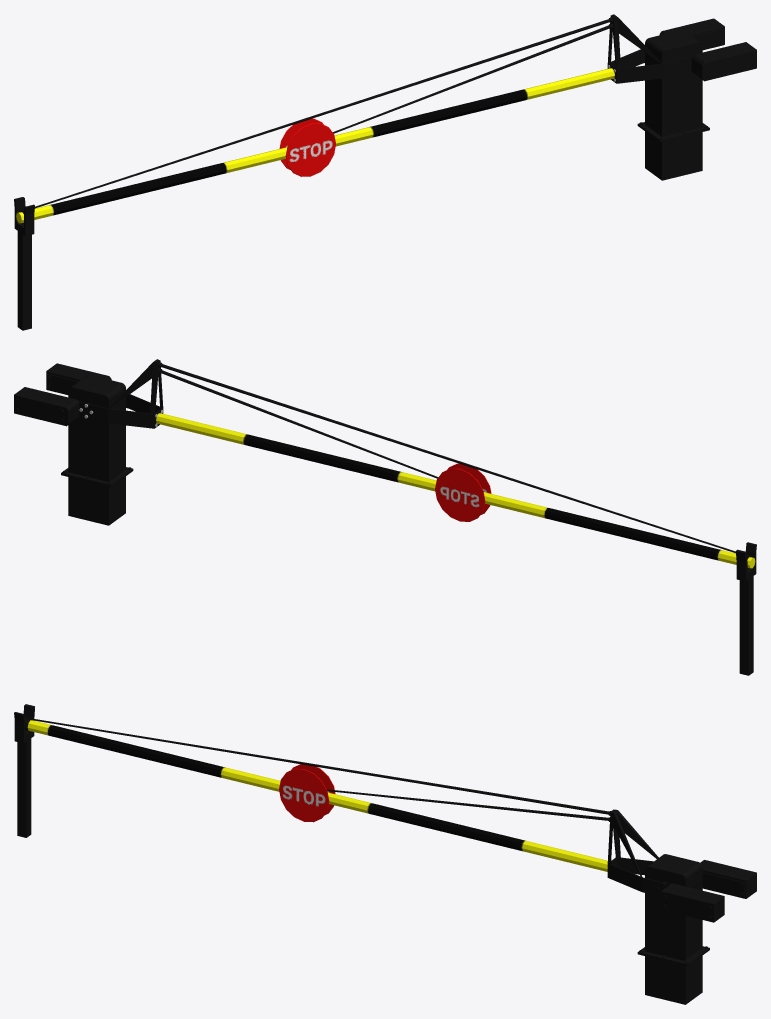
Rendered from RailwayCrossing-transformed.glb.
The picture shows the model from 3 angles, top to bottom: view 1: azimuth 30°, elevation 25°; view 2: azimuth 150°, elevation 25°; view 3: azimuth 330°, elevation 25°; orthographic projection.
Visible parts, largest first — view 1: main1, main_pole, Side_Support1, STOP_1, Cube, Ring_12, Side1, Ring_13, Side; view 2: main1, main_pole, Side_Support1, STOP_2, Cube, Ring_12, Side, Ring_13, Side1; view 3: main1, main_pole, Side_Support1, STOP_1, Cube, Ring_12, Side1, Side, Ring_13.
Part boxes in pixels (x1=…): main1: x1=637, y1=30, x2=709, y2=180; main_pole: x1=16, y1=68, x2=614, y2=223; Side_Support1: x1=607, y1=14, x2=724, y2=83; STOP_1: x1=285, y1=123, x2=335, y2=176; Cube: x1=14, y1=197, x2=34, y2=330; Ring_12: x1=20, y1=17, x2=613, y2=223; Side1: x1=691, y1=42, x2=756, y2=81; Ring_13: x1=333, y1=23, x2=613, y2=133; Side: x1=659, y1=18, x2=724, y2=50; main1: x1=61, y1=375, x2=133, y2=525; main_pole: x1=156, y1=413, x2=755, y2=568; Side_Support1: x1=46, y1=359, x2=163, y2=428; STOP_2: x1=435, y1=468, x2=485, y2=521; Cube: x1=736, y1=542, x2=756, y2=675; Ring_12: x1=157, y1=362, x2=751, y2=568; Side: x1=14, y1=387, x2=79, y2=426; Ring_13: x1=157, y1=368, x2=438, y2=478; Side1: x1=46, y1=363, x2=111, y2=394; main1: x1=637, y1=854, x2=709, y2=1004; main_pole: x1=27, y1=720, x2=607, y2=871; Side_Support1: x1=607, y1=809, x2=744, y2=897; STOP_1: x1=279, y1=768, x2=329, y2=822; Cube: x1=14, y1=704, x2=34, y2=837; Ring_12: x1=25, y1=717, x2=610, y2=815; Side1: x1=659, y1=883, x2=724, y2=922; Side: x1=700, y1=860, x2=756, y2=898; Ring_13: x1=327, y1=789, x2=610, y2=821.
Bounding box in the file's own units: 0.0967 × 0.0216 × 0.0104.
4 materials, 2 textured.
